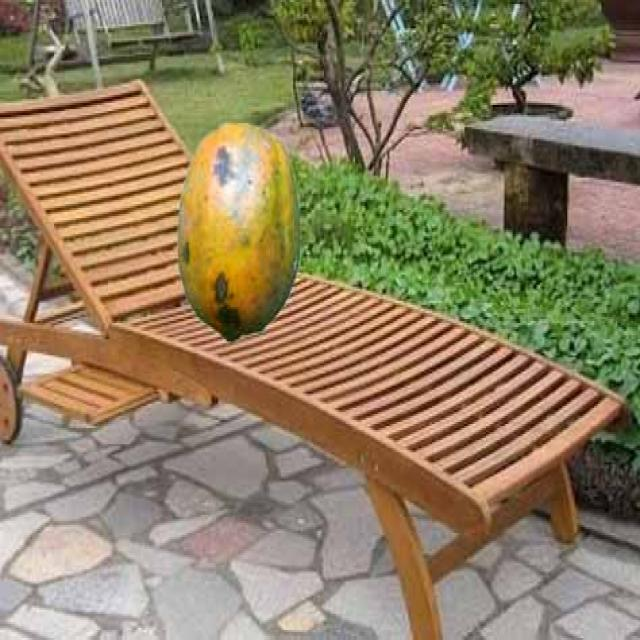Pepaya rippen: (177, 107, 302, 341)
